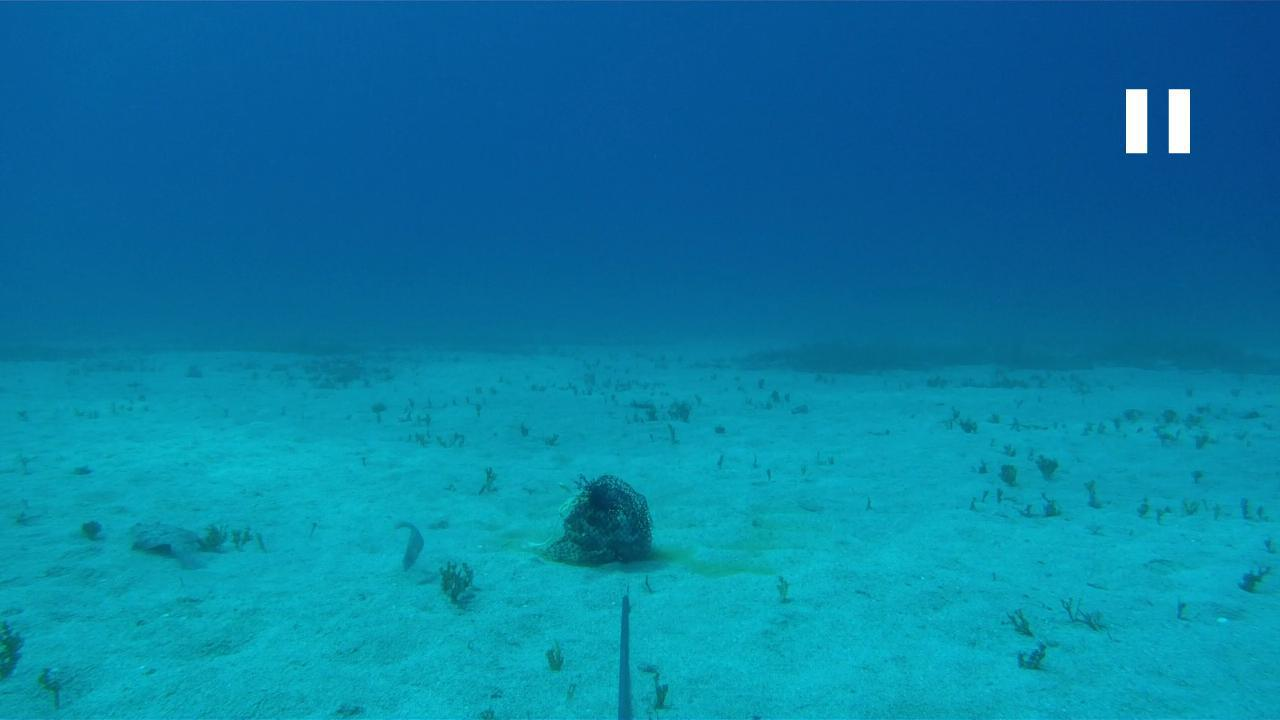bothus: (126, 514, 209, 566)
